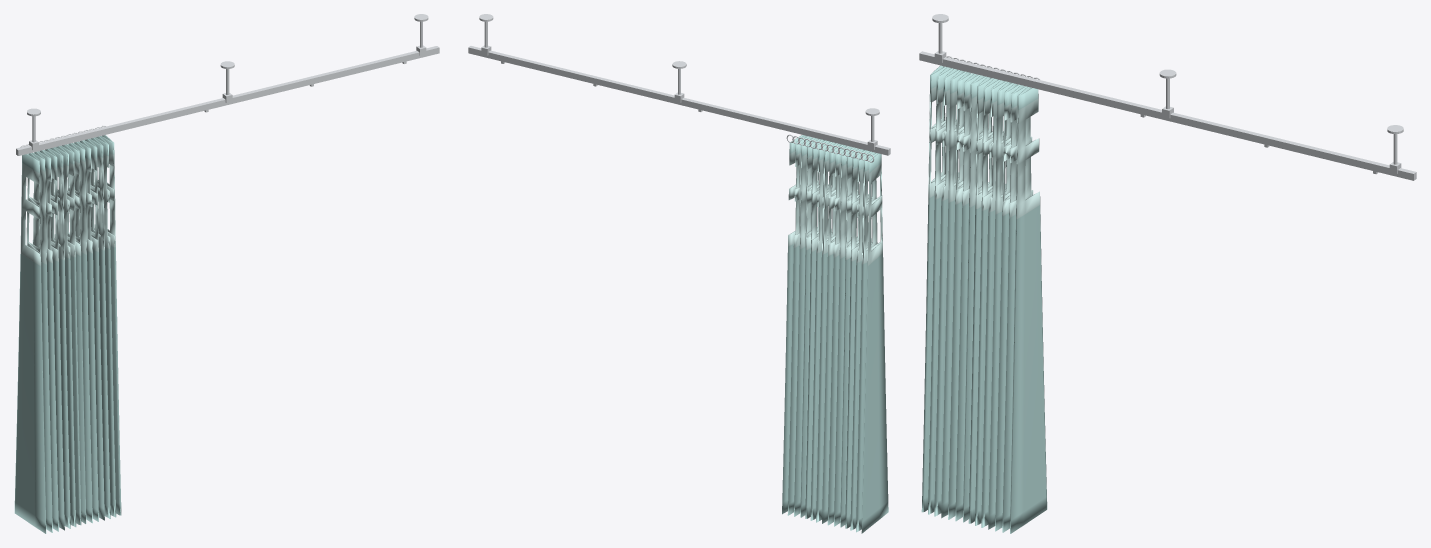
The model's file is Hospital_cutton_v5.fbx.
The picture shows the model from 3 angles, left to right: view 1: azimuth 30°, elevation 25°; view 2: azimuth 150°, elevation 25°; view 3: azimuth 330°, elevation 25°; orthographic projection. The views are drawn at different scales.
Parts seen in each view (by area): view 1: 05_Folded_Intact_Curtain; view 2: 05_Folded_Intact_Curtain; view 3: 05_Folded_Intact_Curtain.
Boxes of the visible parts, x1,y1,x2,y2 form: 05_Folded_Intact_Curtain: (14,14,439,533); 05_Folded_Intact_Curtain: (468,14,890,533); 05_Folded_Intact_Curtain: (919,14,1416,533).
Size of the model in its own units: 240 by 224 by 30.02.
